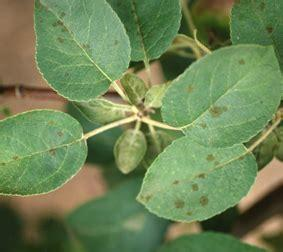black-spot: (170, 151, 222, 213)
